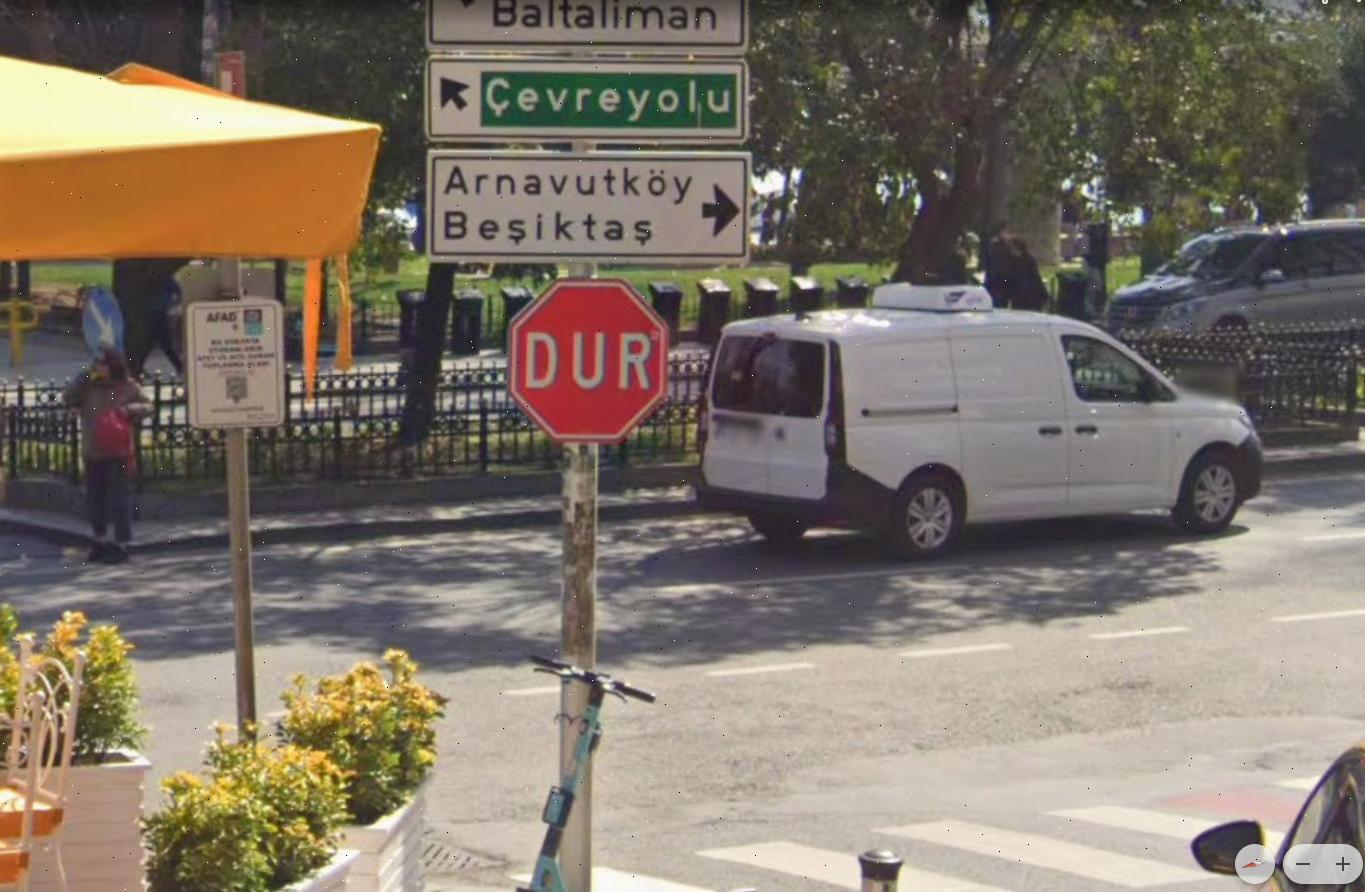stop: (515, 282, 667, 440)
